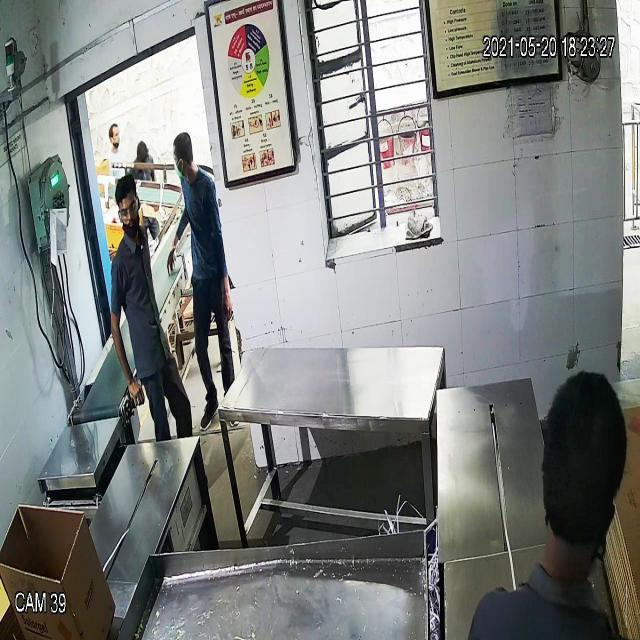glasses: (114, 196, 144, 226)
